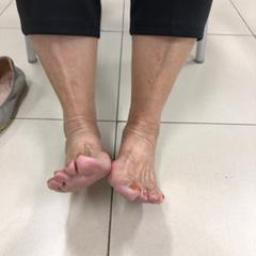Front View -Both Feet-: (30, 84, 191, 222)
